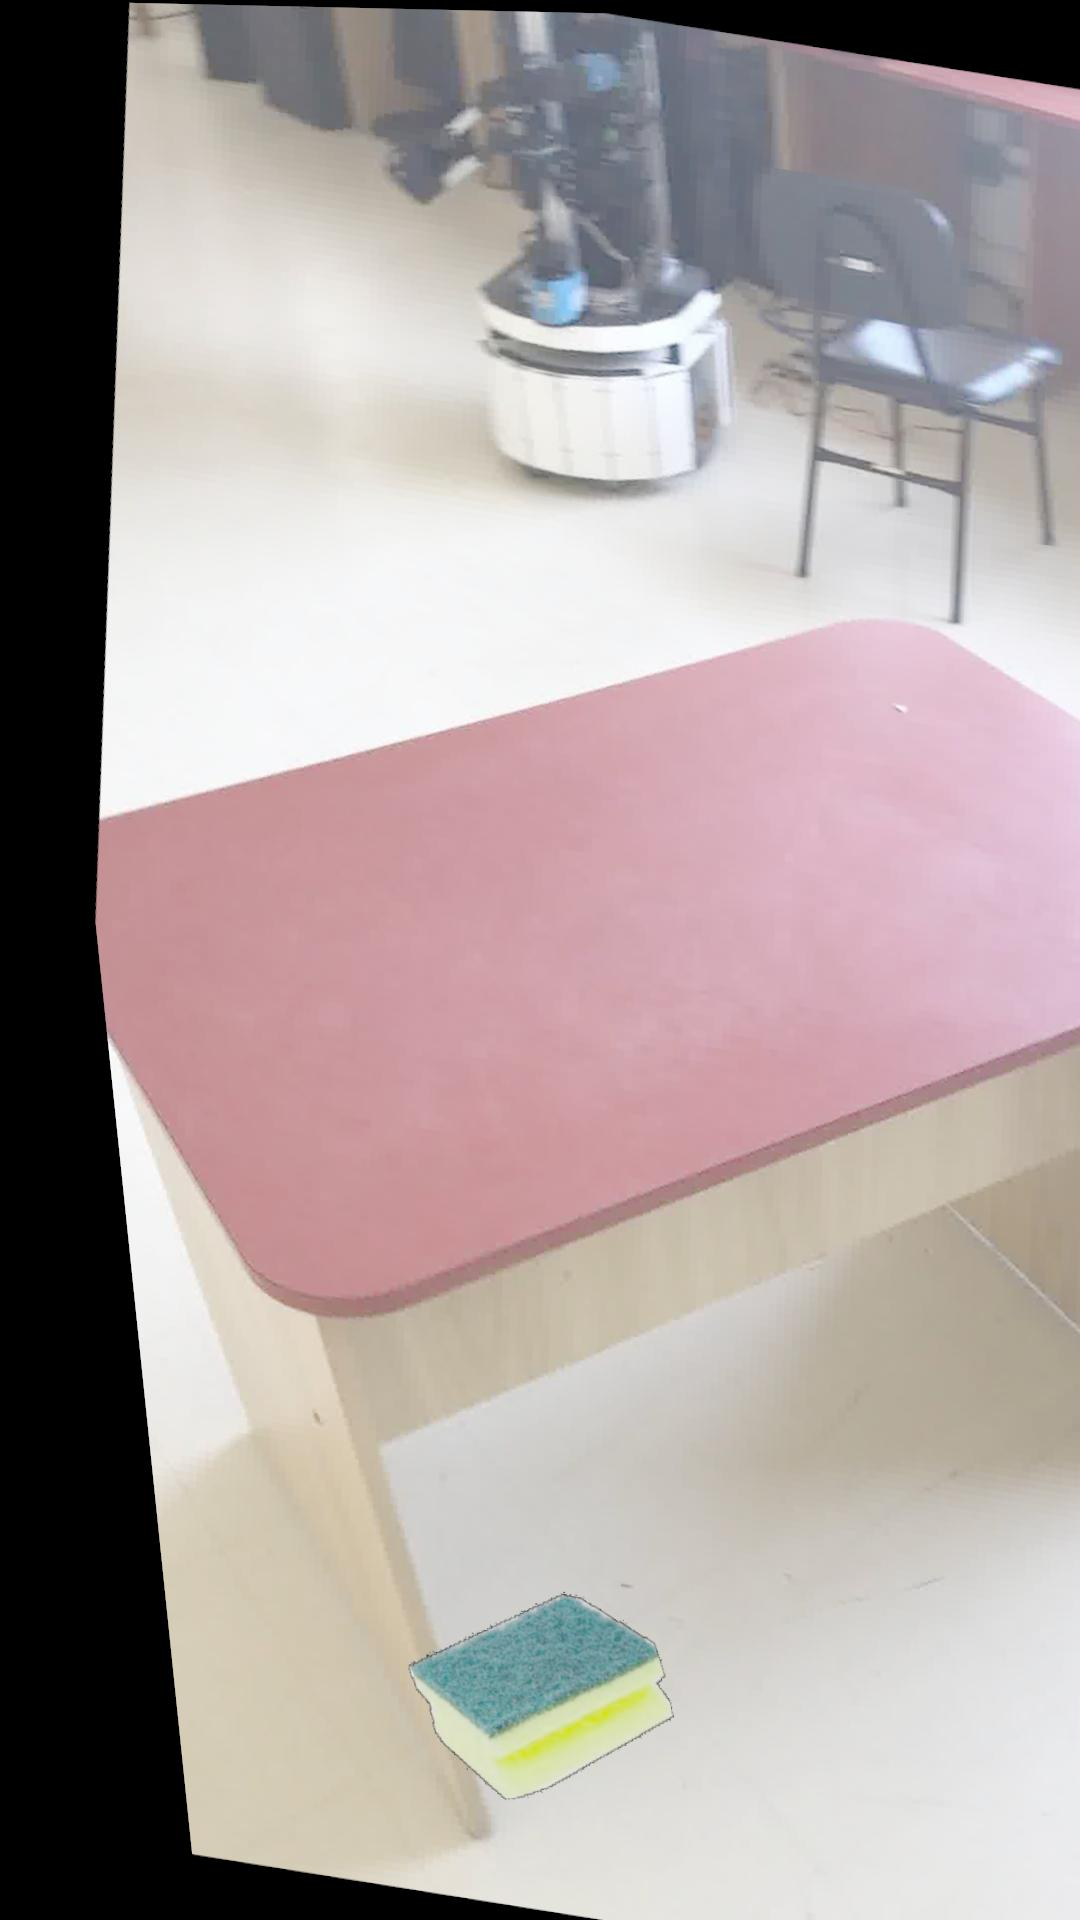sponge: (373, 1590, 638, 1797)
